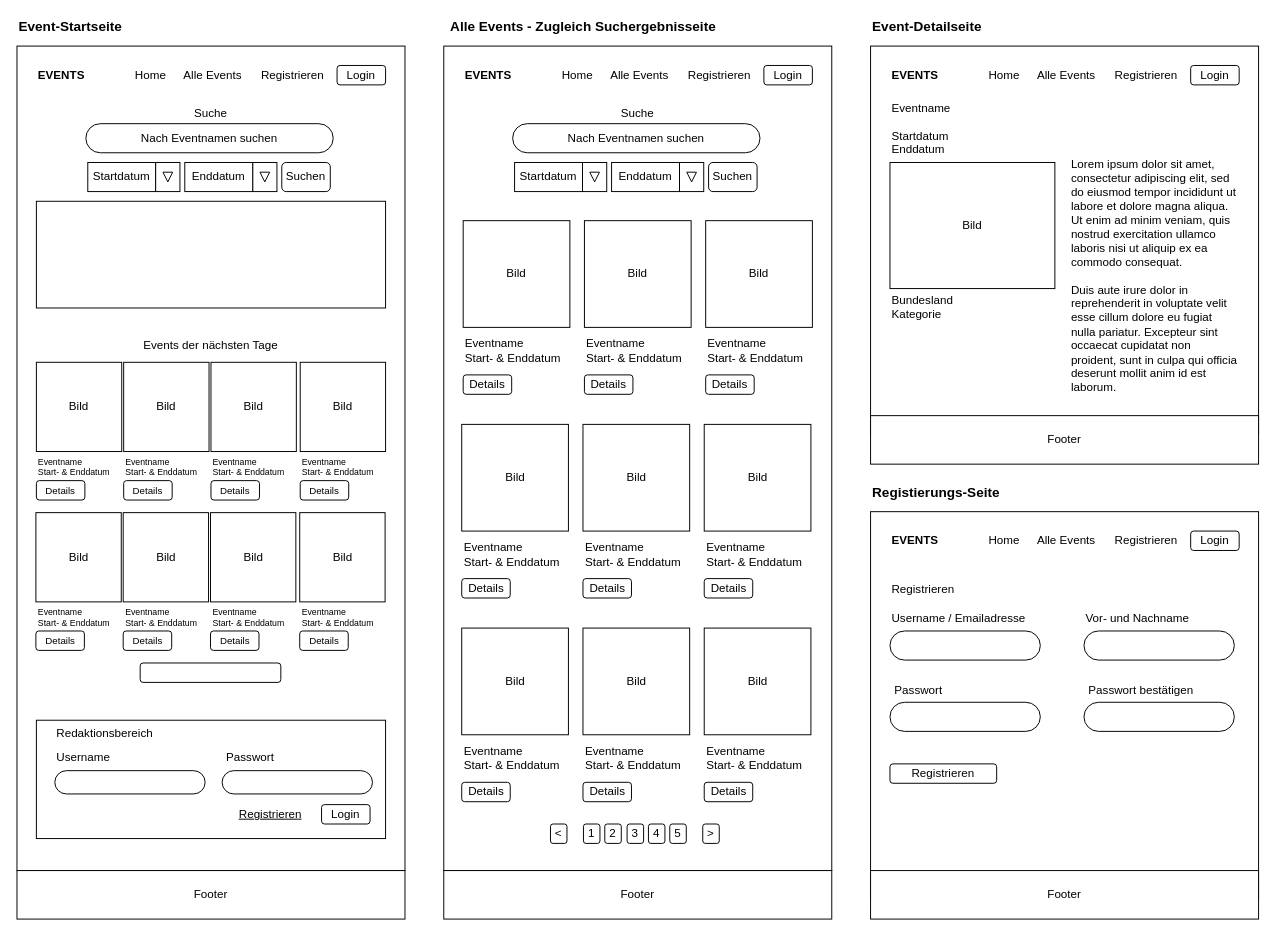
The diagram is 1276 pixels wide and 936 high, and some of its shapes have lost their labels. The box of each missing label's shape, as (x1, y1, x2, y2) in pixels:
Alle Events anzeigen: (139, 662, 281, 682)
Event-Promo (Zufallsauswahl und zukünftiges Startdatum): (35, 200, 386, 308)
